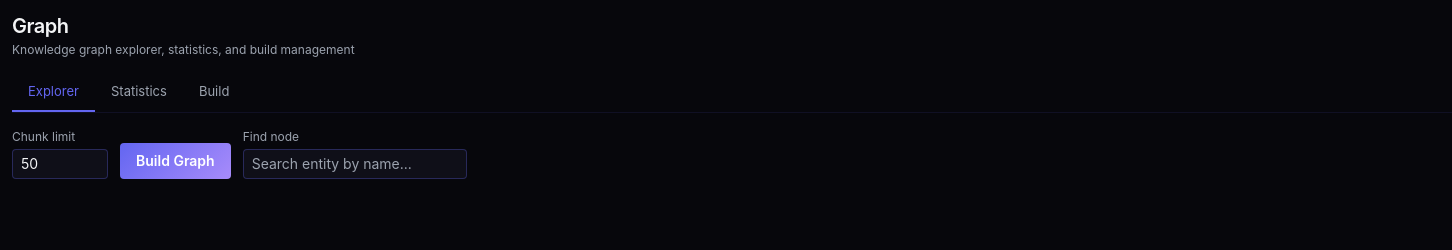
Test: GraphView › shows API error detail when build fails
The image size is (1452, 250).
Click the button "Build Graph".
click(175, 160)  # box [120, 142, 231, 178]
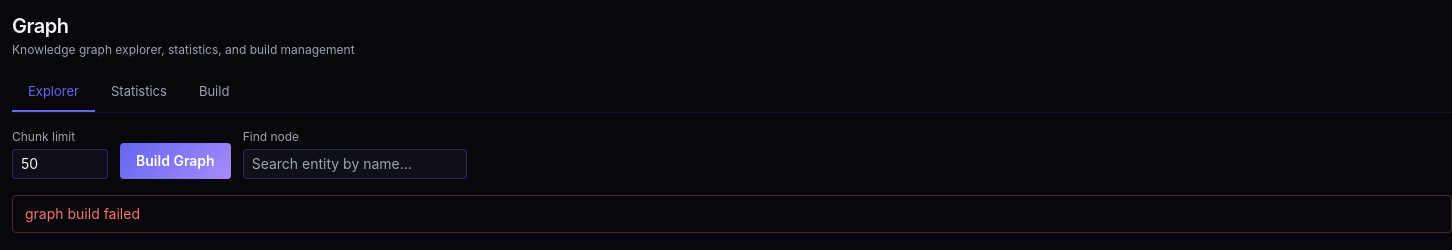
Now the text "graph build failed" is shown, box [12, 194, 1451, 232]
